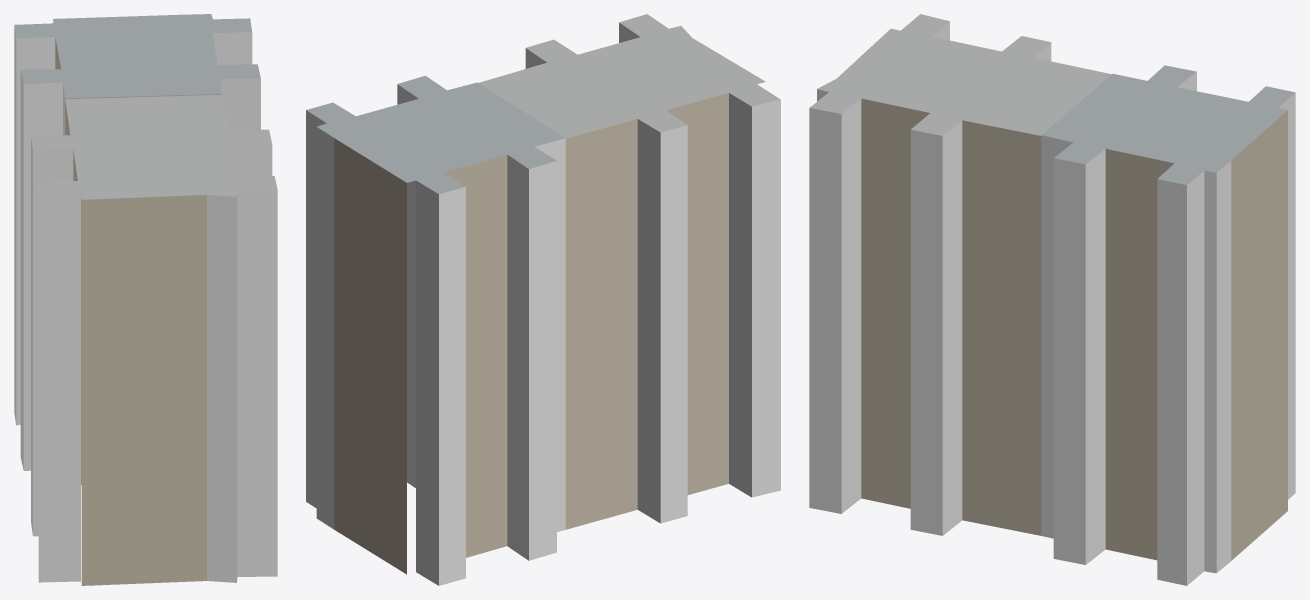
3 renders of one model, left to right at view 1: azimuth 30°, elevation 25°; view 2: azimuth 150°, elevation 25°; view 3: azimuth 270°, elevation 25°, orthographic. The views are drawn at different scales.
Parts seen in each view (by area): view 1: tuile; view 2: tuile; view 3: tuile.
Boxes of the visible parts, bbox=[...] form: tuile: bbox=[14, 14, 277, 585]; tuile: bbox=[306, 14, 780, 585]; tuile: bbox=[809, 14, 1295, 585].
Bounding box in the file's own units: 16.5 × 17.92 × 19.7.
